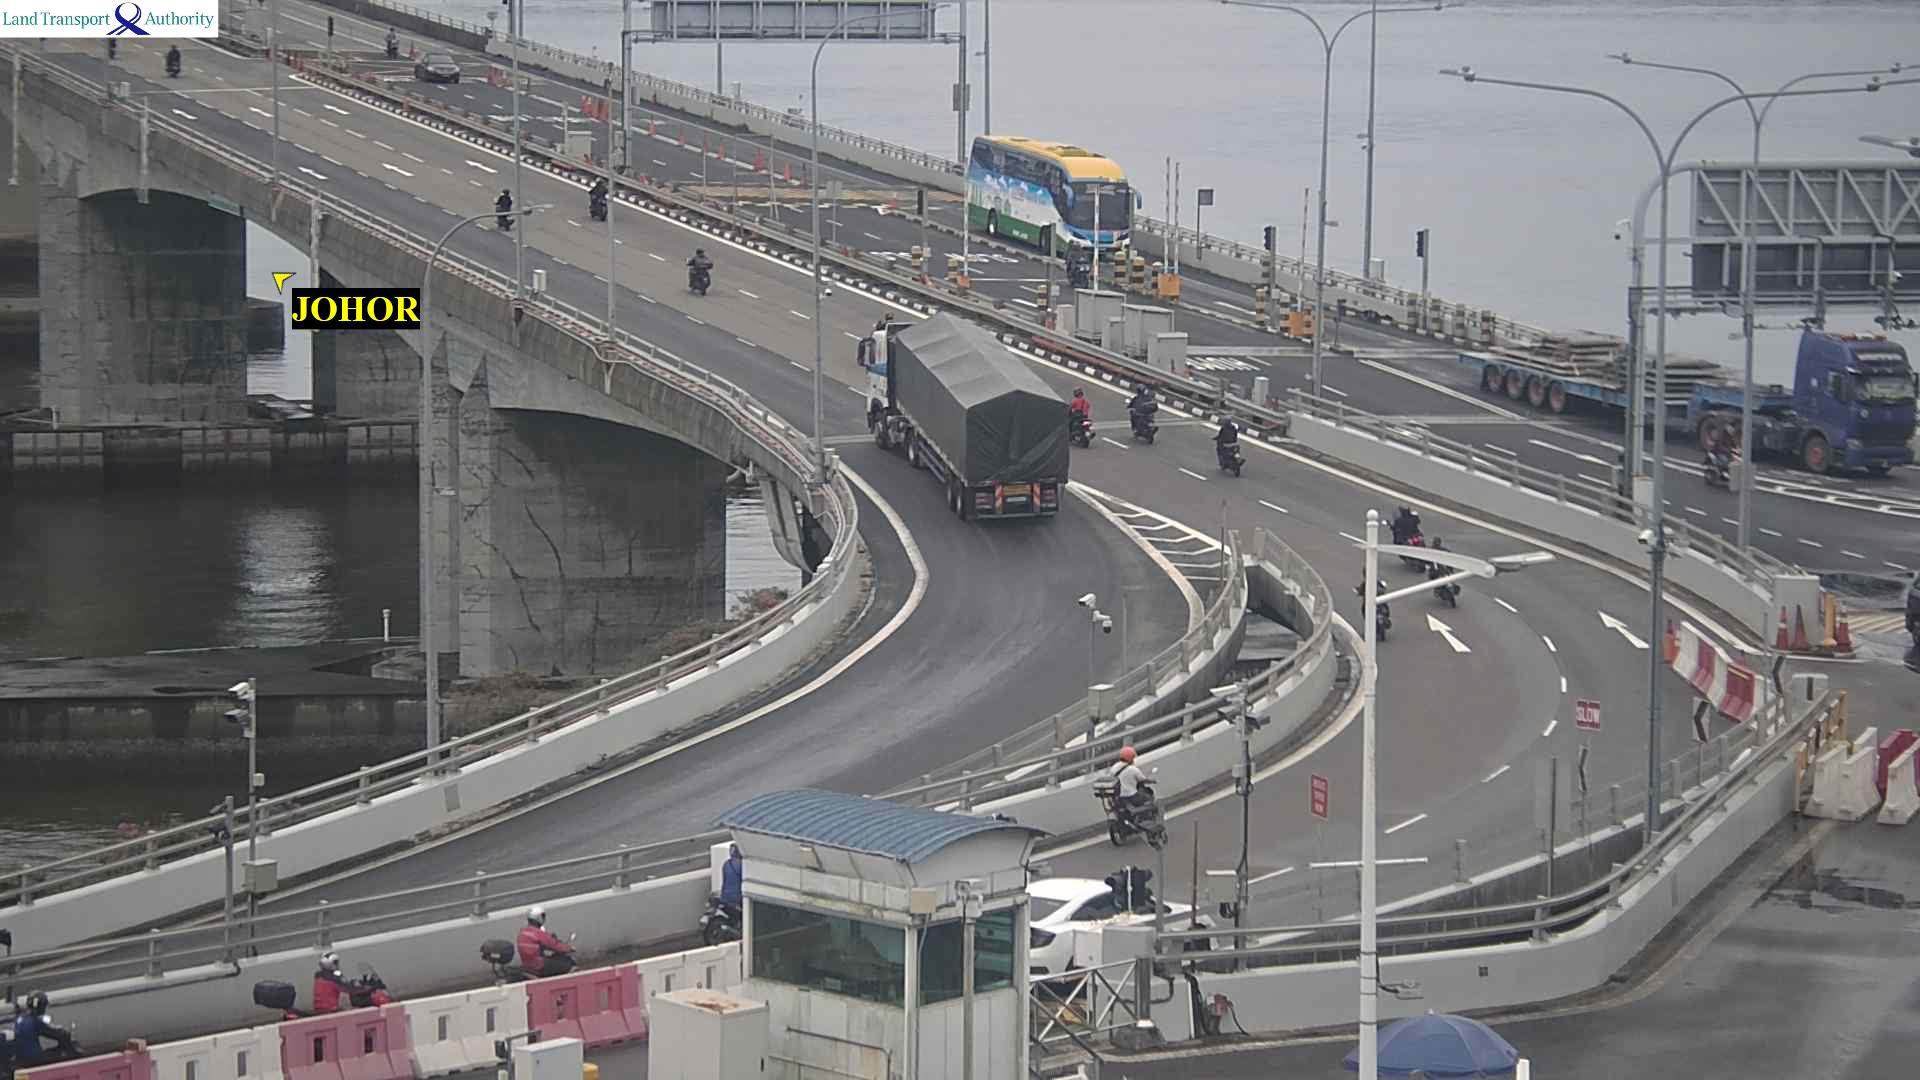vehicle-secondlink-johor: (873, 328, 1067, 517), (1029, 885, 1215, 963), (247, 952, 392, 1015), (1, 997, 91, 1076), (483, 916, 583, 981), (1097, 767, 1164, 853), (311, 957, 396, 1013), (1129, 398, 1162, 442), (1069, 388, 1093, 444), (1395, 504, 1423, 551), (687, 247, 709, 290), (1221, 418, 1241, 467), (495, 189, 514, 228), (588, 182, 603, 215), (166, 42, 181, 74)
vehicle-secondlink-singapore: (1468, 297, 1916, 475), (969, 135, 1130, 257), (414, 54, 462, 84), (388, 26, 400, 58)
